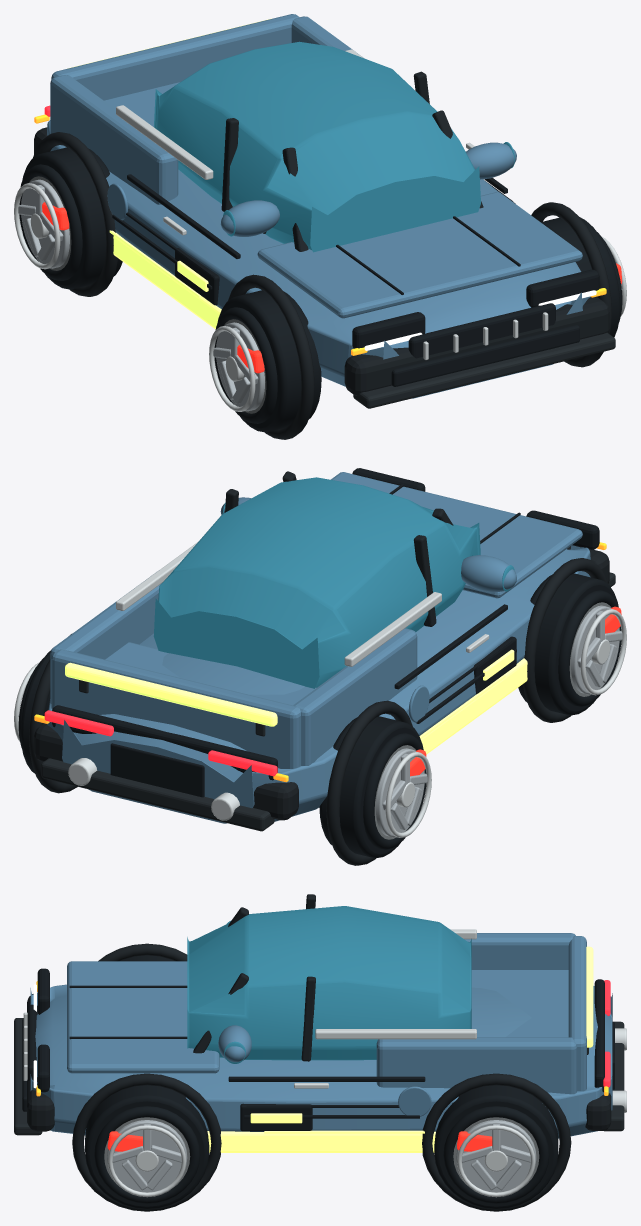
File: pickup.glb
3 renders of one model, top to bottom at view 1: azimuth 30°, elevation 25°; view 2: azimuth 150°, elevation 25°; view 3: azimuth 270°, elevation 25°, orthographic. The views are drawn at different scales.
Visible parts, largest first — view 1: continuous smoked glass cabin.004, front hood skin.004, sculpted one-piece body shell.004, pickup tailgate, pickup bed left wall, left wheel tire.008, left wheel tire.009, front bumper fascia.004, front carbon splitter.004, lower front intake surround.004, upper front grille surround.004, left front fender arch bead.004 (+22 smaller); view 2: continuous smoked glass cabin.004, sculpted one-piece body shell.004, pickup tailgate, pickup bed left wall, front hood skin.004, left wheel tire.009, left wheel tire.008, rear diffuser center.004, pickup bed right wall, rear spoiler blade.004, rear plate shadow recess.004, left rear fender arch bead.004 (+26 smaller); view 3: continuous smoked glass cabin.004, sculpted one-piece body shell.004, front hood skin.004, pickup bed right wall, rear deck skin.004, right wheel tire.008, right wheel tire.009, right aerodynamic side sill.004, right front fender arch bead.004, right rear fender arch bead.004, pickup bed left wall, right tire sidewall bead.009 (+30 smaller).
Part boxes in pixels (x1,y1,x2,y2): continuous smoked glass cabin.004: (154,41,480,252); front hood skin.004: (257,192,582,318); sculpted one-piece body shell.004: (47,120,590,398); pickup tailgate: (51,14,299,100); pickup bed left wall: (50,75,178,204); left wheel tire.008: (217,290,321,432); left wheel tire.009: (22,147,122,289); front bumper fascia.004: (344,297,609,395); front carbon splitter.004: (353,332,615,408); lower front intake surround.004: (391,325,579,386); upper front grille surround.004: (408,303,555,358); left front fender arch bead.004: (228,274,314,439); continuous smoked glass cabin.004: (153,477,480,688); sculpted one-piece body shell.004: (47,545,590,823); pickup tailgate: (51,649,301,768); pickup bed left wall: (293,628,417,765); front hood skin.004: (331,472,582,598); left wheel tire.009: (319,716,423,858); left wheel tire.008: (518,573,618,715); rear diffuser center.004: (41,758,274,831); pickup bed right wall: (50,575,161,703); rear spoiler blade.004: (65,662,277,726); rear plate shadow recess.004: (110,743,204,797); left rear fender arch bead.004: (326,700,412,865); continuous smoked glass cabin.004: (187,906,471,1060); sculpted one-piece body shell.004: (30,984,612,1138); front hood skin.004: (67,961,219,1073); pickup bed right wall: (376,1037,577,1094); rear deck skin.004: (471,970,568,1037); right wheel tire.008: (85,1085,209,1209); right wheel tire.009: (434,1085,558,1209); right aerodynamic side sill.004: (207,1131,435,1152); right front fender arch bead.004: (72,1073,221,1211); right rear fender arch bead.004: (422,1073,571,1211); pickup bed left wall: (464,933,575,969); right tire sidewall bead.009: (443,1106,549,1203).
Size of the model in its own units: 3.18 by 1.98 by 5.02.
